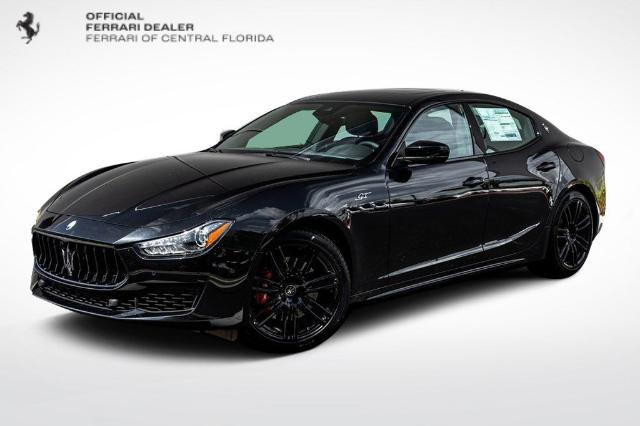maserati: (29, 89, 606, 355)
